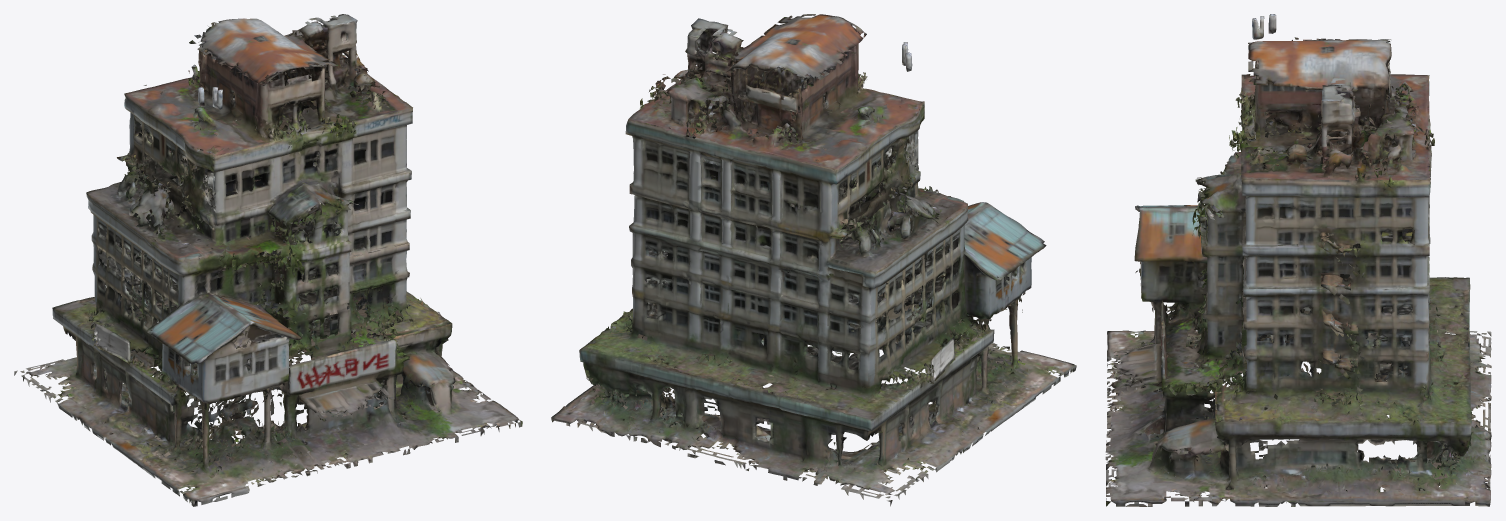
Rendered from Abandoned_Hospital.glb.
3 renders of one model, left to right at view 1: azimuth 30°, elevation 25°; view 2: azimuth 150°, elevation 25°; view 3: azimuth 270°, elevation 25°, orthographic. The views are drawn at different scales.
Bounding box in the file's own units: 1.96 × 1.99 × 1.85.
1 material, 1 textured.
